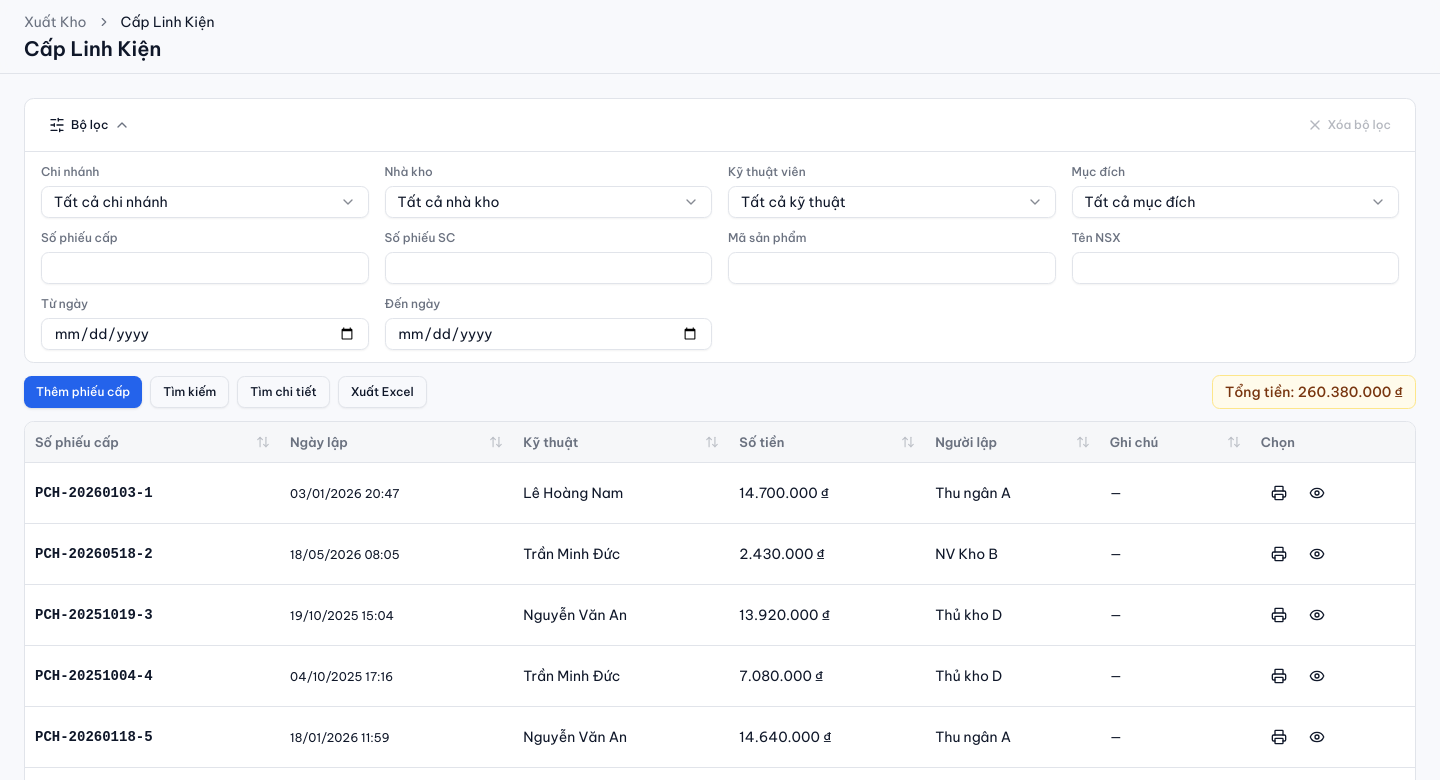
CapLinhKienPage › opens a Chi tiết modal per row
This screenshot has width=1440, height=780.
Click the button named "Chi tiết" in the row of "PCH-20260103-1".
click(1317, 492)  # box [1299,474,1335,510]
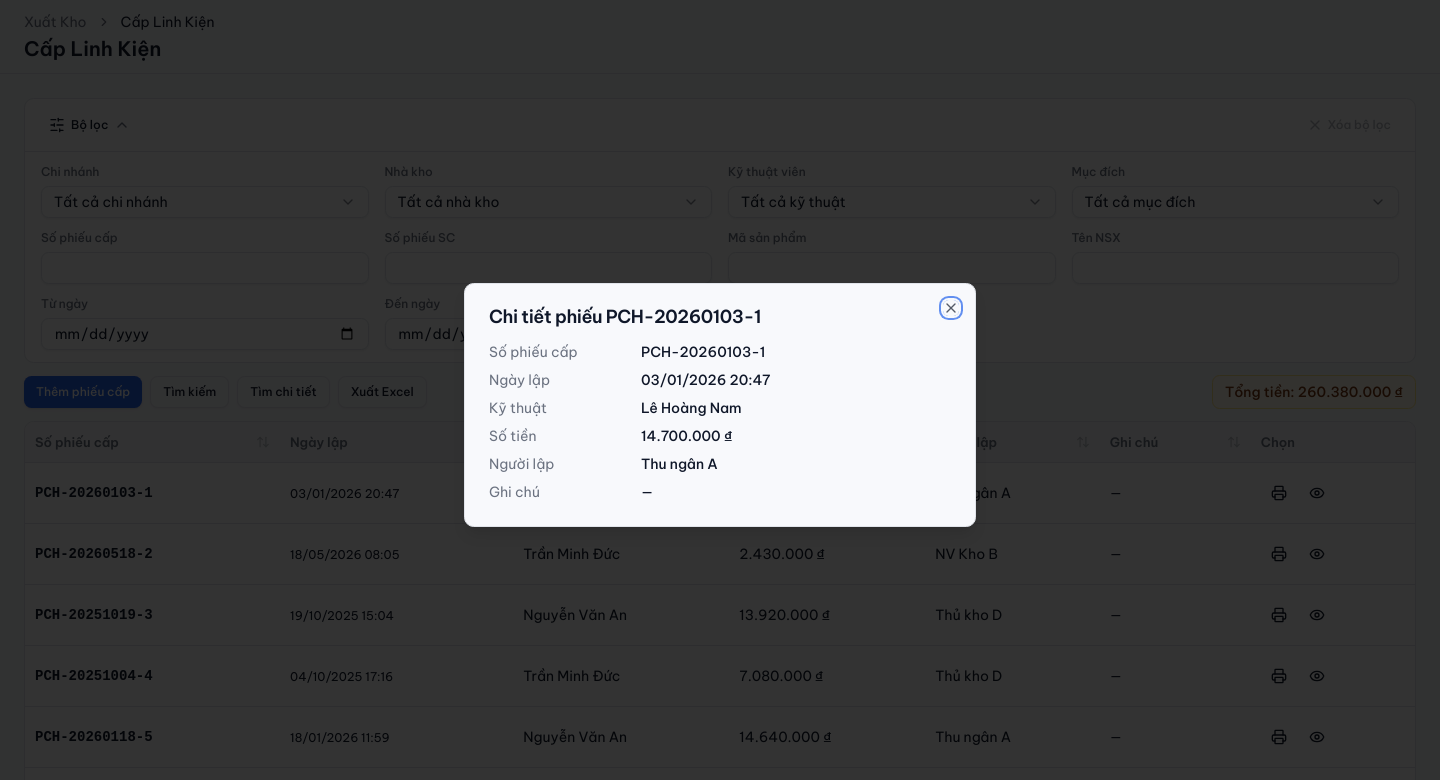
Now the heading "Chi tiết phiếu PCH-20260103-1" is shown, box [489,305,761,328]
